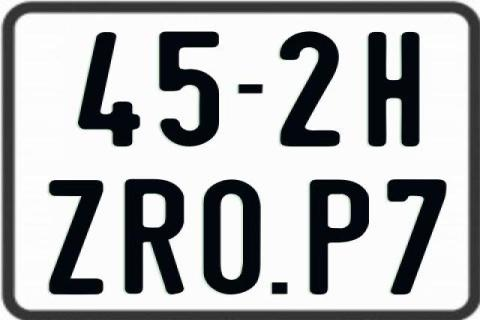0: (280, 31, 346, 149), (75, 31, 139, 146), (158, 29, 218, 148), (201, 178, 261, 296), (386, 179, 445, 295)
H: (368, 32, 423, 151)
P: (310, 177, 374, 297)
R: (124, 179, 188, 295)
Z: (48, 178, 107, 292)
